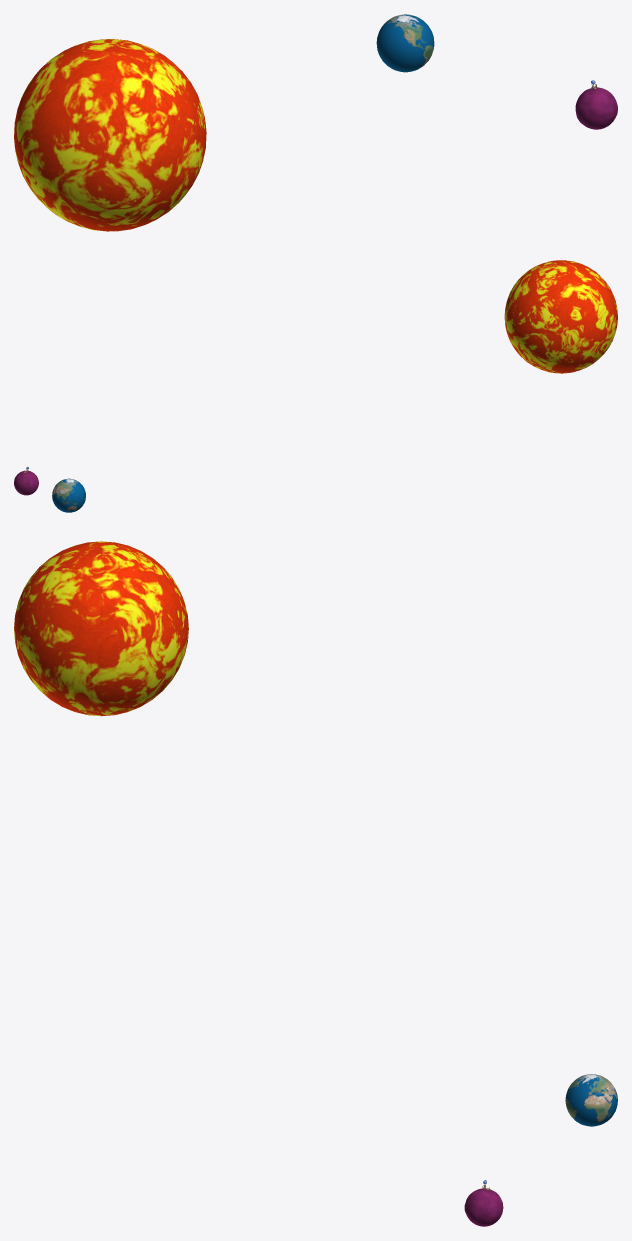
File: EscenaEstaticaCompressed.glb
3 renders of one model, top to bottom at view 1: azimuth 30°, elevation 25°; view 2: azimuth 150°, elevation 25°; view 3: azimuth 270°, elevation 25°, orthographic. The views are drawn at different scales.
Parts seen in each view (by area): view 1: SunTexture, Tierra, Planetilla; view 2: SunTexture, Tierra, Planetilla; view 3: SunTexture, Tierra, Planetilla.
Part boxes in pixels (box(x1,y1,x2,y2)): SunTexture: box(14, 39, 206, 231); Tierra: box(376, 14, 434, 72); Planetilla: box(575, 87, 617, 129); SunTexture: box(504, 260, 617, 373); Tierra: box(52, 478, 85, 512); Planetilla: box(14, 470, 38, 495); SunTexture: box(14, 541, 188, 716); Tierra: box(565, 1074, 617, 1126); Planetilla: box(464, 1188, 503, 1226).
Bounding box in the file's own units: 56.15 × 27.15 × 40.53.
Materials: 19 (7 with a texture image).
